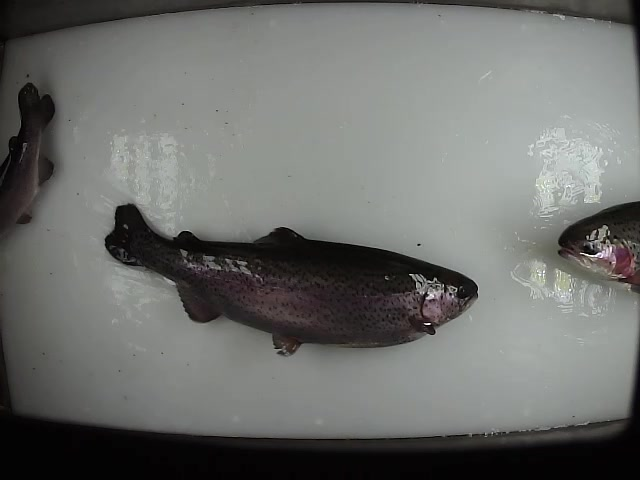fish: (102, 200, 480, 358), (1, 80, 58, 234), (556, 200, 640, 298)
